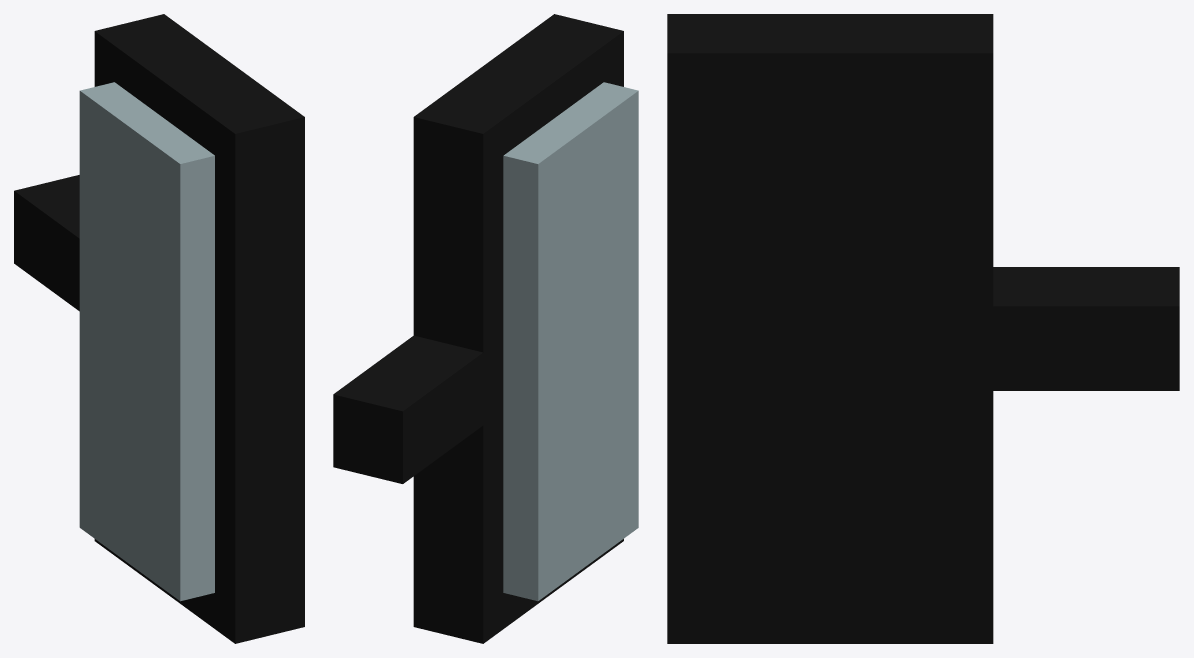
The model's file is door_mirror_large.glb.
The picture shows the model from 3 angles, left to right: view 1: azimuth 30°, elevation 25°; view 2: azimuth 150°, elevation 25°; view 3: azimuth 270°, elevation 25°; orthographic projection. The views are drawn at different scales.
Parts seen in each view (by area): view 1: body:compound; view 2: body:compound; view 3: body:compound.
Boxes of the visible parts, x1=… form: body:compound: x1=14, y1=14, x2=304, y2=643; body:compound: x1=333, y1=14, x2=638, y2=643; body:compound: x1=667, y1=14, x2=1179, y2=643.
Bounding box in the file's own units: 0.0938 × 0.4375 × 0.3438.
